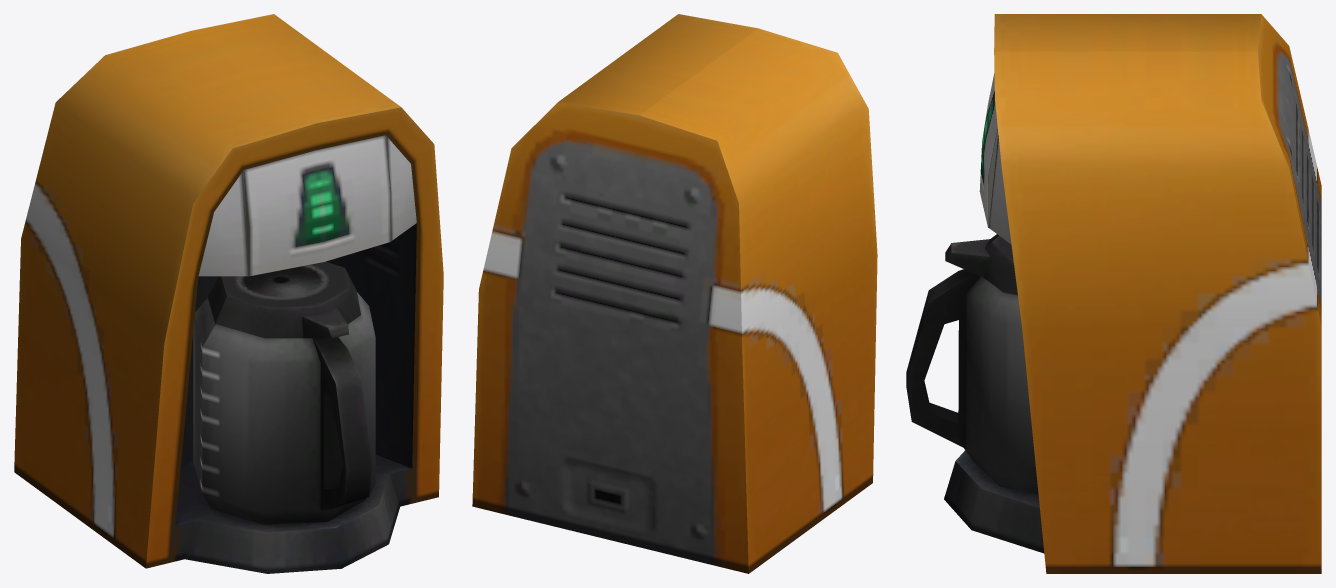
File: ty_shuihu01.fbx
3 renders of one model, left to right at view 1: azimuth 30°, elevation 25°; view 2: azimuth 150°, elevation 25°; view 3: azimuth 270°, elevation 25°, orthographic. The views are drawn at different scales.
Visible parts, largest first — view 1: s4studio_mesh_0; view 2: s4studio_mesh_0; view 3: s4studio_mesh_0.
Part boxes in pixels (box(x1,y1,x2,y2)): s4studio_mesh_0: box(14, 14, 443, 573); s4studio_mesh_0: box(472, 14, 877, 573); s4studio_mesh_0: box(906, 14, 1321, 573).
Bounding box in the file's own units: 23.54 × 32.86 × 27.66.
Materials: 1 (1 with a texture image).
